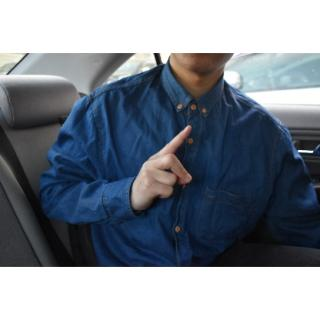TAA: (130, 120, 200, 213)
